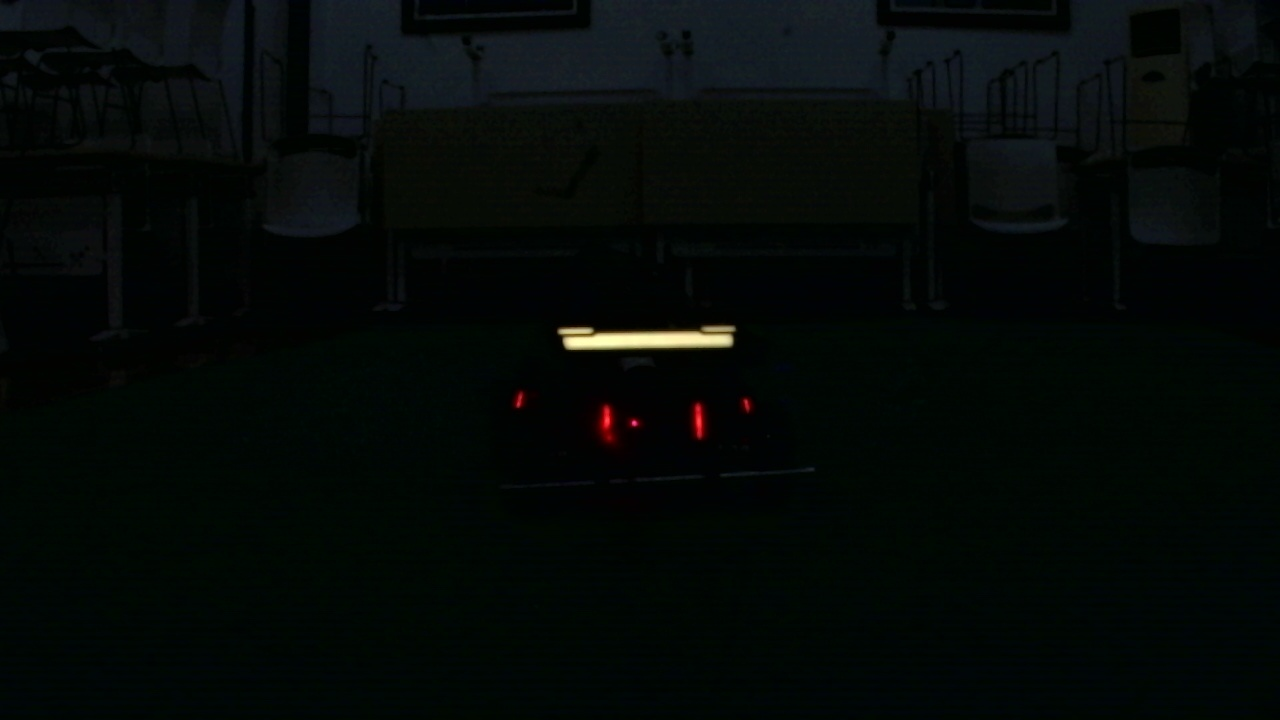lamp: (596, 403, 617, 444), (689, 399, 705, 439)
pair1: (600, 407, 705, 442)
